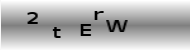2: (26, 11, 39, 25)
E: (78, 22, 93, 38)
W: (106, 19, 128, 34)
r: (92, 10, 104, 21)
t: (51, 25, 62, 40)
